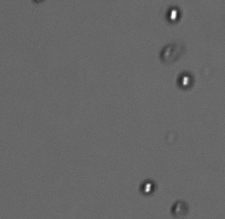Dead Cell: (160, 42, 183, 62), (169, 198, 189, 215)
Living Cell: (178, 69, 193, 89), (139, 178, 155, 195), (168, 6, 182, 24)
